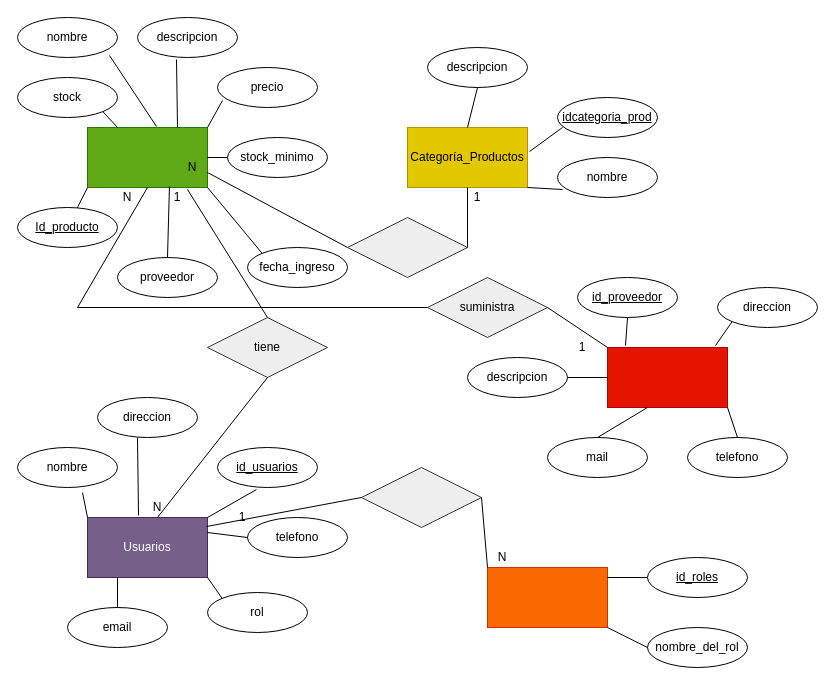
This 835x685 diagram has some shape labels left out. The box of each missing label's shape, as (x1, y1, x2, y2) in pixels:
Es asignado: (360, 466, 482, 528)
pertenece: (346, 216, 468, 278)
Productos: (86, 126, 208, 188)
Proveedores: (606, 346, 728, 408)
Roles: (486, 566, 608, 628)
